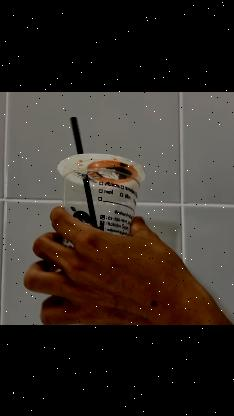Others: (58, 116, 146, 238)
